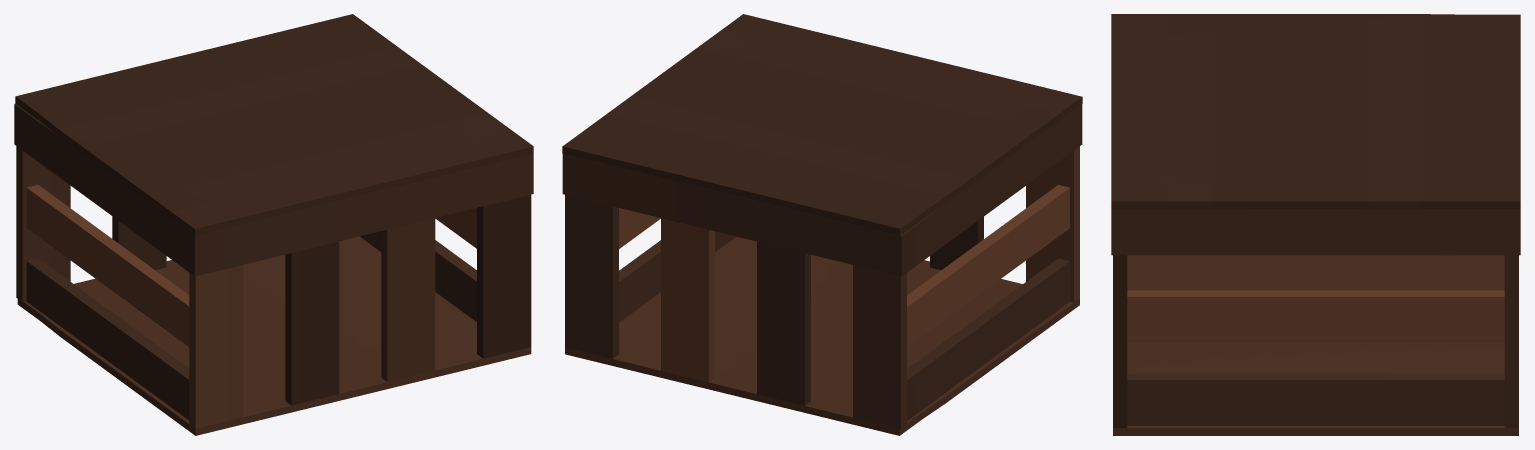
Rendered from Med Dark Crate Closed.fbx.
3 views of the same model, side by side, from view 1: azimuth 30°, elevation 25°; view 2: azimuth 150°, elevation 25°; view 3: azimuth 270°, elevation 25° (orthographic). The views are drawn at different scales.
Parts seen in each view (by area): view 1: Med Dark Crate Closed; view 2: Med Dark Crate Closed; view 3: Med Dark Crate Closed.
Part boxes in pixels (x1,y1,x2,y2): Med Dark Crate Closed: [14, 14, 533, 435]; Med Dark Crate Closed: [562, 14, 1082, 435]; Med Dark Crate Closed: [1111, 14, 1520, 435].
Bounding box in the file's own units: 122 × 192 × 208.
Materials: 1 (1 with a texture image).
